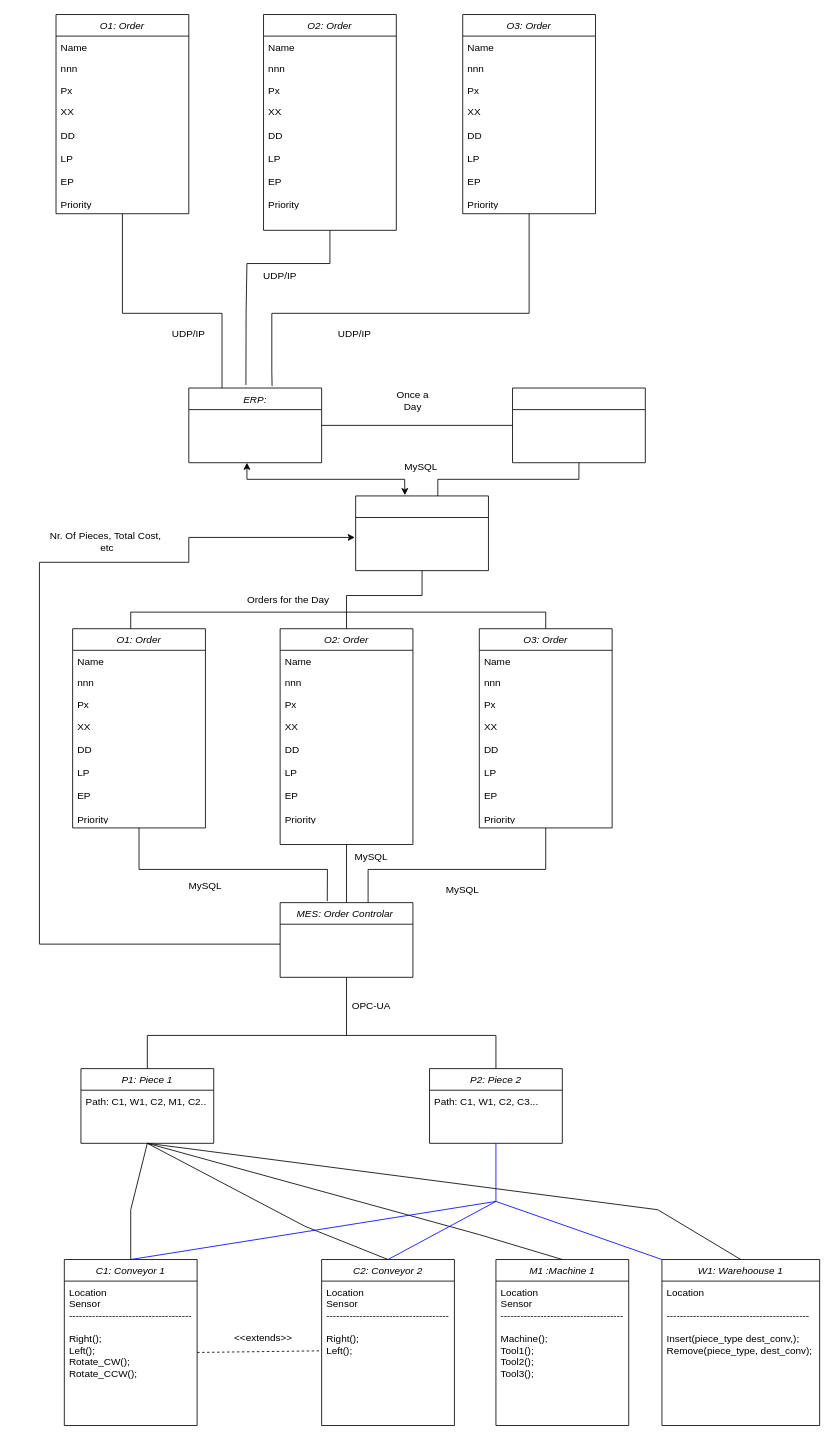
This 834x1443 diagram has some shape labels left out. The centre of each missing label's shape, as x and y in pixels:
"DataBase" belongs at (421,533).
"Order Optimizer" belongs at (578,425).
